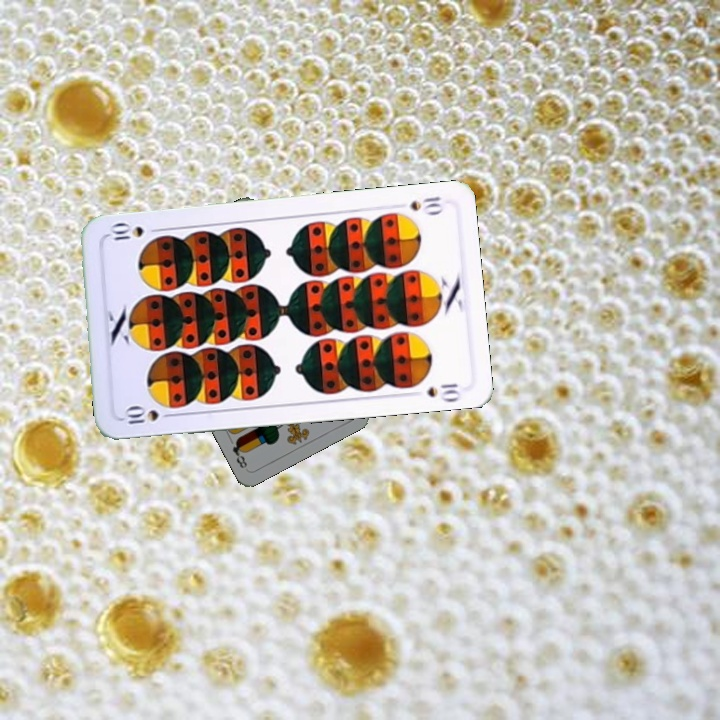S10: (119, 403, 178, 428), (405, 193, 446, 217)
